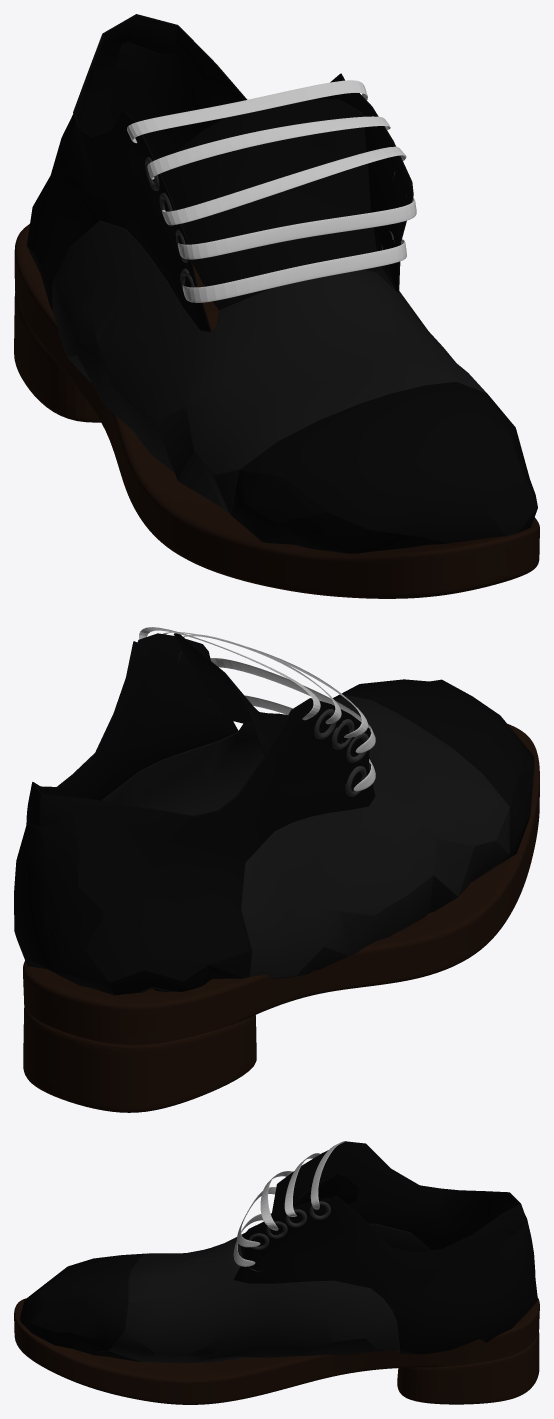
File: Prueba.fbx
3 views of the same model, one above another, from view 1: azimuth 30°, elevation 25°; view 2: azimuth 150°, elevation 25°; view 3: azimuth 270°, elevation 25° (orthographic). The views are drawn at different scales.
Visible parts, largest first — view 1: ZAPATO1_3, Plane, Plane.002, Plane.005, Plane.001, Plane.004, Plane.003; view 2: ZAPATO1_3, Plane, Plane.002, Plane.004, Plane.005, Plane.001; view 3: ZAPATO1_3, Plane, Plane.001, Plane.004, Plane.003, Plane.002, Plane.005.
Part boxes in pixels (x1,y1,x2,y2): ZAPATO1_3: (27,14,537,553); Plane: (14,224,539,598); Plane.002: (178,197,416,259); Plane.005: (182,239,406,302); Plane.001: (162,146,406,224); Plane.004: (127,80,367,143); Plane.003: (147,116,390,179); ZAPATO1_3: (14,633,534,995); Plane: (23,724,539,1112); Plane.002: (210,658,375,753); Plane.004: (139,627,320,720); Plane.005: (244,695,375,791); Plane.001: (183,634,367,737); ZAPATO1_3: (19,1141,537,1363); Plane: (14,1298,539,1404); Plane.001: (260,1171,293,1230); Plane.004: (310,1141,347,1209); Plane.003: (284,1153,320,1216); Plane.002: (237,1187,276,1247); Plane.005: (233,1213,271,1266).
Size of the model in its own units: 174 by 204 by 447.
